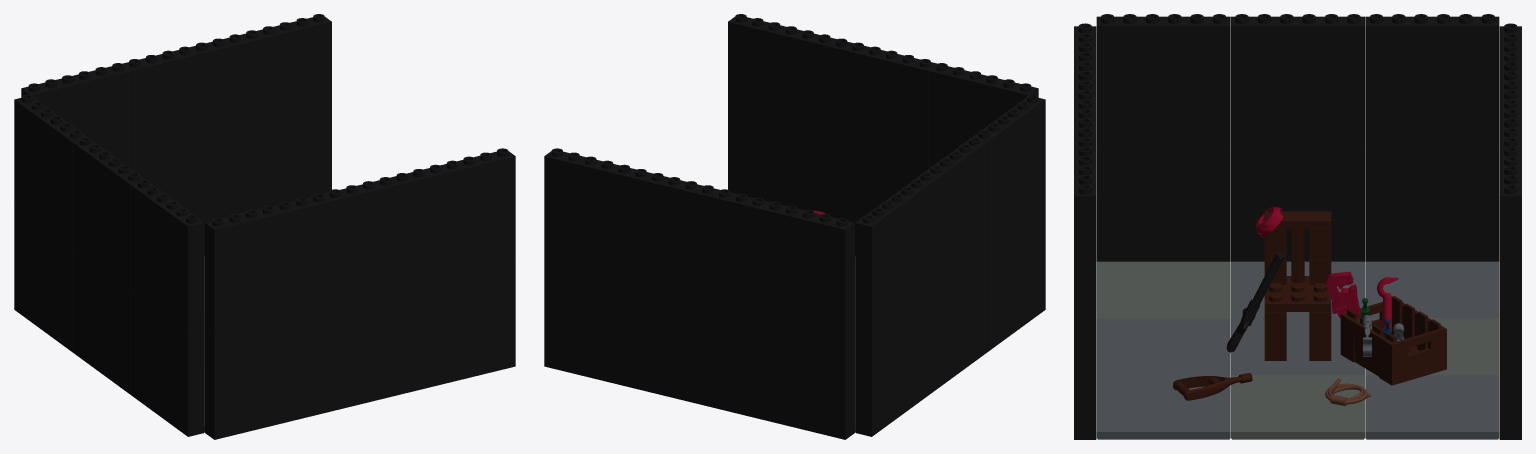
Rendered from Background.fbx.
The picture shows the model from 3 angles, left to right: view 1: azimuth 30°, elevation 25°; view 2: azimuth 150°, elevation 25°; view 3: azimuth 270°, elevation 25°; orthographic projection. The views are drawn at different scales.
Visible parts, largest first — view 1: part.044, part.043, part.041, part.042, part.040, part.028, part.027, part.035, part.036, part.029, part.038, part.037 (+5 smaller); view 2: part.039, part.040, part.042, part.041, part.043, part.032, part.033, part.034, part.038, part.031, part.036, part.037 (+5 smaller); view 3: part.036, part.038, part.037, part.029, part.031, part.030, part.024, part.020, part.018, part.023, part.022, part.026 (+28 smaller).
Boxes of the visible parts, left/top/right/bottom form: part.044: left=205, top=197, right=314, bottom=334; part.043: left=306, top=173, right=415, bottom=310; part.041: left=223, top=14, right=331, bottom=151; part.042: left=407, top=148, right=515, bottom=285; part.040: left=122, top=38, right=231, bottom=173; part.028: left=205, top=310, right=314, bottom=439; part.027: left=315, top=286, right=415, bottom=415; part.035: left=415, top=261, right=515, bottom=390; part.036: left=130, top=179, right=204, bottom=331; part.029: left=130, top=290, right=204, bottom=436; part.038: left=14, top=94, right=87, bottom=246; part.037: left=72, top=137, right=145, bottom=288; part.039: left=745, top=197, right=854, bottom=334; part.040: left=644, top=173, right=753, bottom=310; part.042: left=728, top=14, right=836, bottom=151; part.041: left=544, top=148, right=652, bottom=285; part.043: left=828, top=38, right=937, bottom=173; part.032: left=745, top=310, right=854, bottom=439; part.033: left=644, top=286, right=744, bottom=415; part.034: left=544, top=261, right=644, bottom=390; part.038: left=855, top=179, right=929, bottom=331; part.031: left=855, top=290, right=929, bottom=436; part.036: left=972, top=94, right=1045, bottom=246; part.037: left=914, top=137, right=987, bottom=288; part.036: left=1096, top=14, right=1230, bottom=147; part.038: left=1365, top=14, right=1499, bottom=147; part.037: left=1231, top=14, right=1364, bottom=147; part.029: left=1096, top=147, right=1230, bottom=261; part.031: left=1365, top=147, right=1499, bottom=261; part.030: left=1231, top=147, right=1364, bottom=261; part.024: left=1365, top=375, right=1499, bottom=439; part.020: left=1231, top=375, right=1364, bottom=439; part.018: left=1096, top=261, right=1230, bottom=318; part.023: left=1096, top=375, right=1230, bottom=439; part.022: left=1096, top=318, right=1230, bottom=375; part.026: left=1365, top=261, right=1499, bottom=318.
Bounding box in the file's own units: 15192 × 9928 × 15992.
